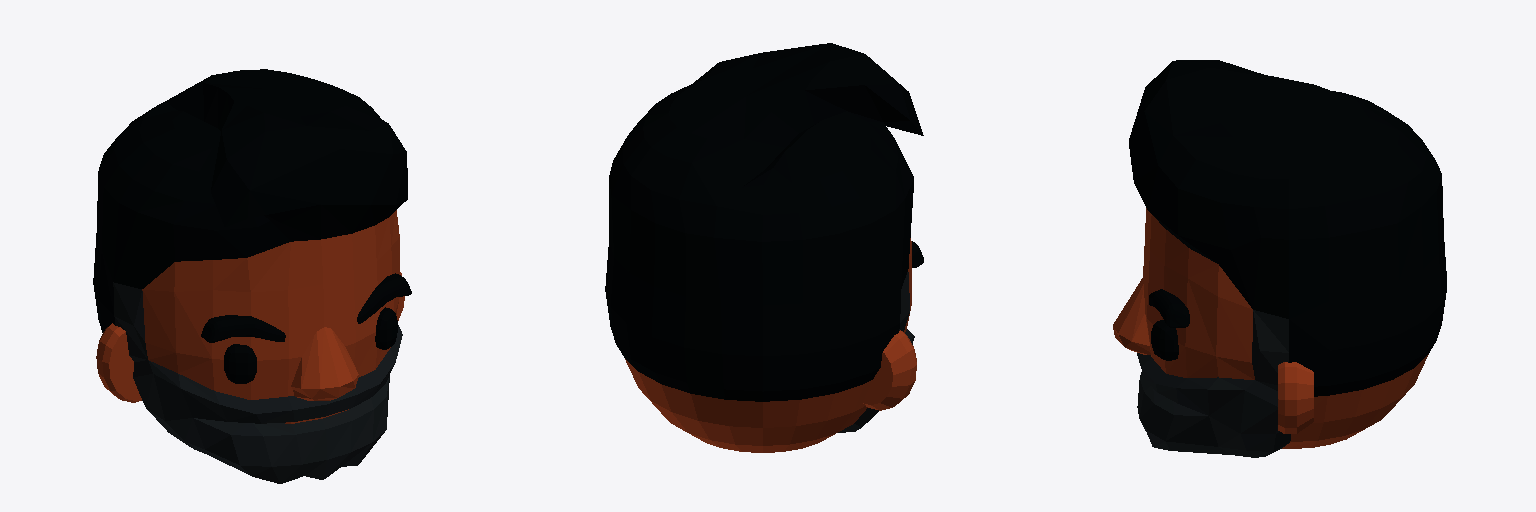
Rendered from character_spaceSoldierHeadB.obj.
3 views of the same model, side by side, from view 1: azimuth 30°, elevation 25°; view 2: azimuth 150°, elevation 25°; view 3: azimuth 270°, elevation 25° (orthographic).
Visible parts, largest first — view 1: character_spaceSoldierHeadB_Cube.5744; view 2: character_spaceSoldierHeadB_Cube.5744; view 3: character_spaceSoldierHeadB_Cube.5744.
Part boxes in pixels (left/top/right/bottom): character_spaceSoldierHeadB_Cube.5744: left=93, top=69, right=411, bottom=483; character_spaceSoldierHeadB_Cube.5744: left=605, top=43, right=923, bottom=452; character_spaceSoldierHeadB_Cube.5744: left=1113, top=60, right=1446, bottom=457.
Bounding box in the file's own units: 1.18 × 1.3 × 1.13.